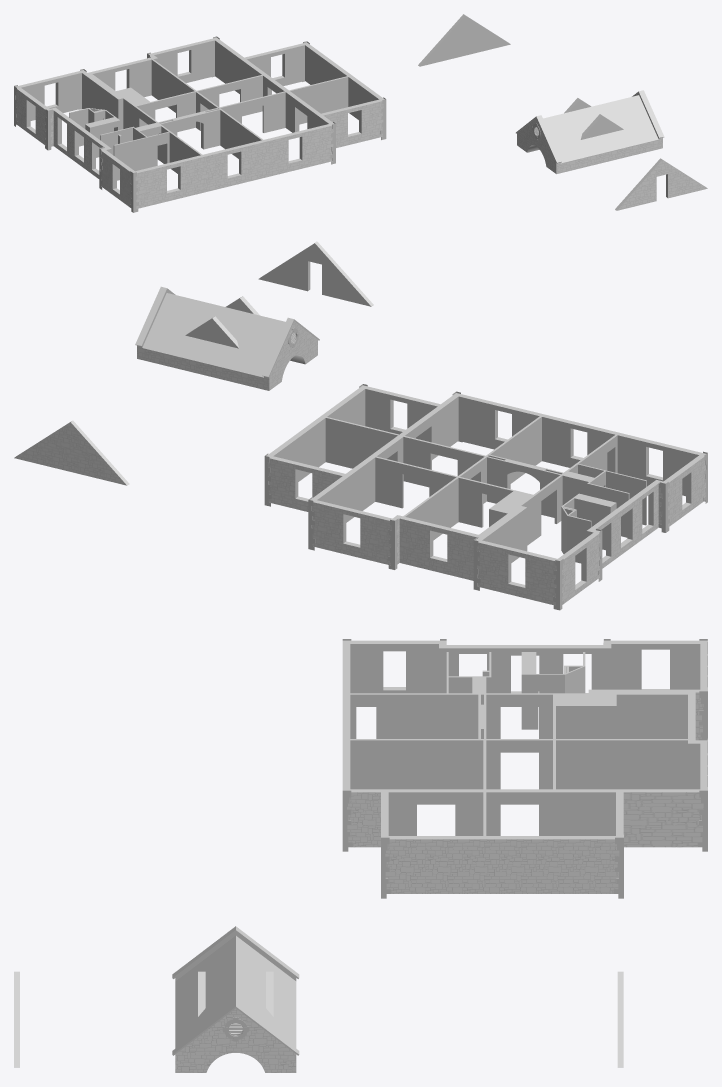
Rendered from RB05__Storey__FirstFloor__ProposedWalls__MeshModel__.glb.
3 views of the same model, one above another, from view 1: azimuth 30°, elevation 25°; view 2: azimuth 150°, elevation 25°; view 3: azimuth 270°, elevation 25° (orthographic). The views are drawn at different scales.
Visible parts, largest first — view 1: 21__ProposedBuilding__Walls::Default, 21__ProposedBuilding__Walls::MAT000E__Masonry__StoneworkPatt; view 2: 21__ProposedBuilding__Walls::Default, 21__ProposedBuilding__Walls::MAT000E__Masonry__StoneworkPatt; view 3: 21__ProposedBuilding__Walls::Default, 21__ProposedBuilding__Walls::MAT000E__Masonry__StoneworkPatt.
Part boxes in pixels (bbox=[...]): 21__ProposedBuilding__Walls::Default: bbox=[14, 14, 704, 212]; 21__ProposedBuilding__Walls::MAT000E__Masonry__StoneworkPatt: bbox=[15, 57, 707, 210]; 21__ProposedBuilding__Walls::Default: bbox=[16, 241, 707, 610]; 21__ProposedBuilding__Walls::MAT000E__Masonry__StoneworkPatt: bbox=[14, 321, 705, 605]; 21__ProposedBuilding__Walls::Default: bbox=[14, 639, 707, 1067]; 21__ProposedBuilding__Walls::MAT000E__Masonry__StoneworkPatt: bbox=[175, 692, 703, 1072].
Size of the model in its own units: 41.75 by 4.29 by 34.41.
3 materials, 1 textured.
